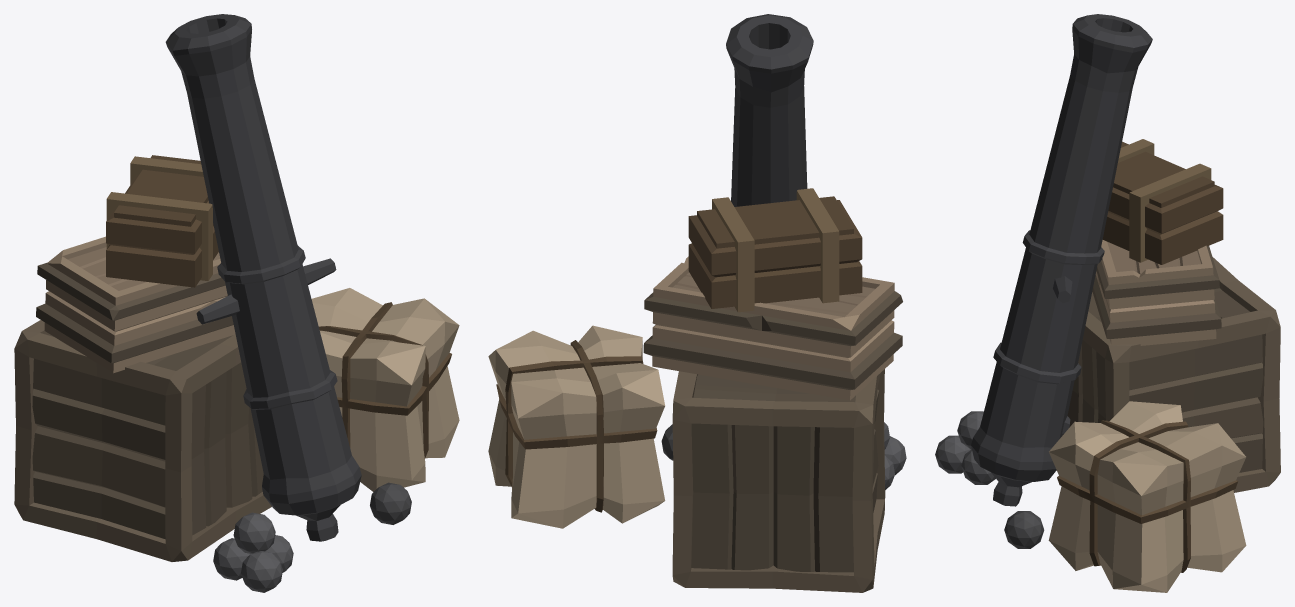
File: SM_Prop_Stack_06.glb
3 renders of one model, left to right at view 1: azimuth 30°, elevation 25°; view 2: azimuth 150°, elevation 25°; view 3: azimuth 270°, elevation 25°, orthographic. The views are drawn at different scales.
Visible parts, largest first — view 1: SM_Prop_Stack_06; view 2: SM_Prop_Stack_06; view 3: SM_Prop_Stack_06.
Part boxes in pixels (bbox=[...]): SM_Prop_Stack_06: bbox=[14, 14, 459, 592]; SM_Prop_Stack_06: bbox=[488, 14, 906, 592]; SM_Prop_Stack_06: bbox=[935, 14, 1280, 592].
Size of the model in its own units: 0.02 by 0.0231 by 0.0155.
Materials: 1 (1 with a texture image).
